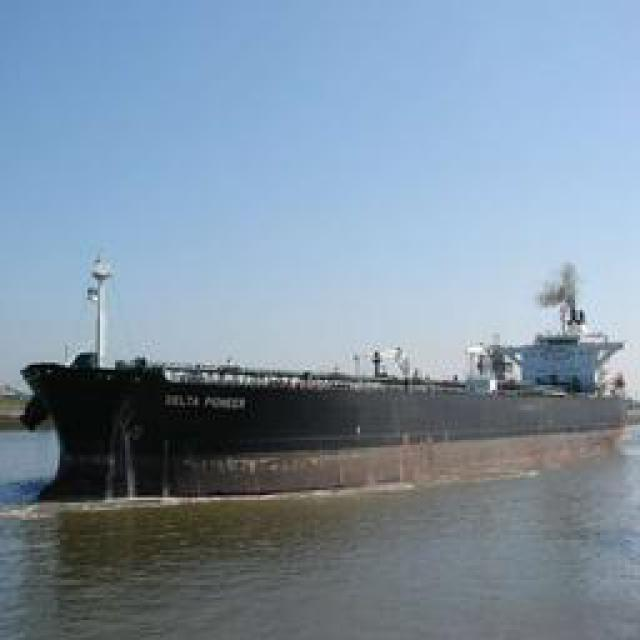Ship: (23, 251, 628, 491)
